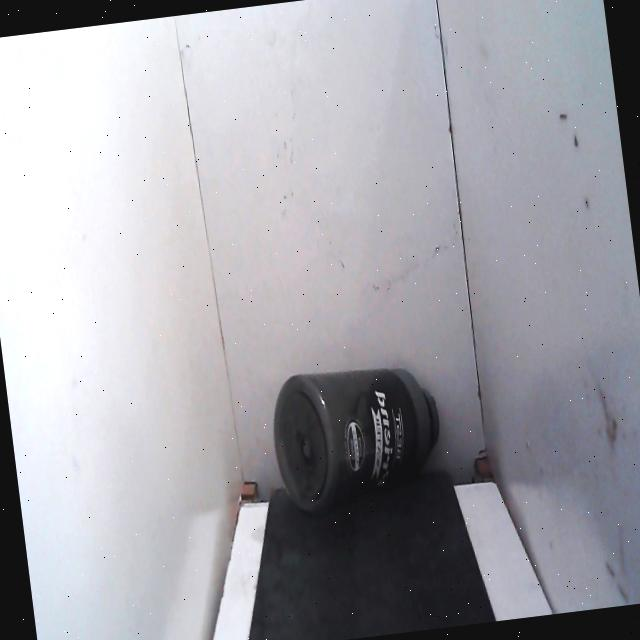plastico: (262, 352, 452, 526)
